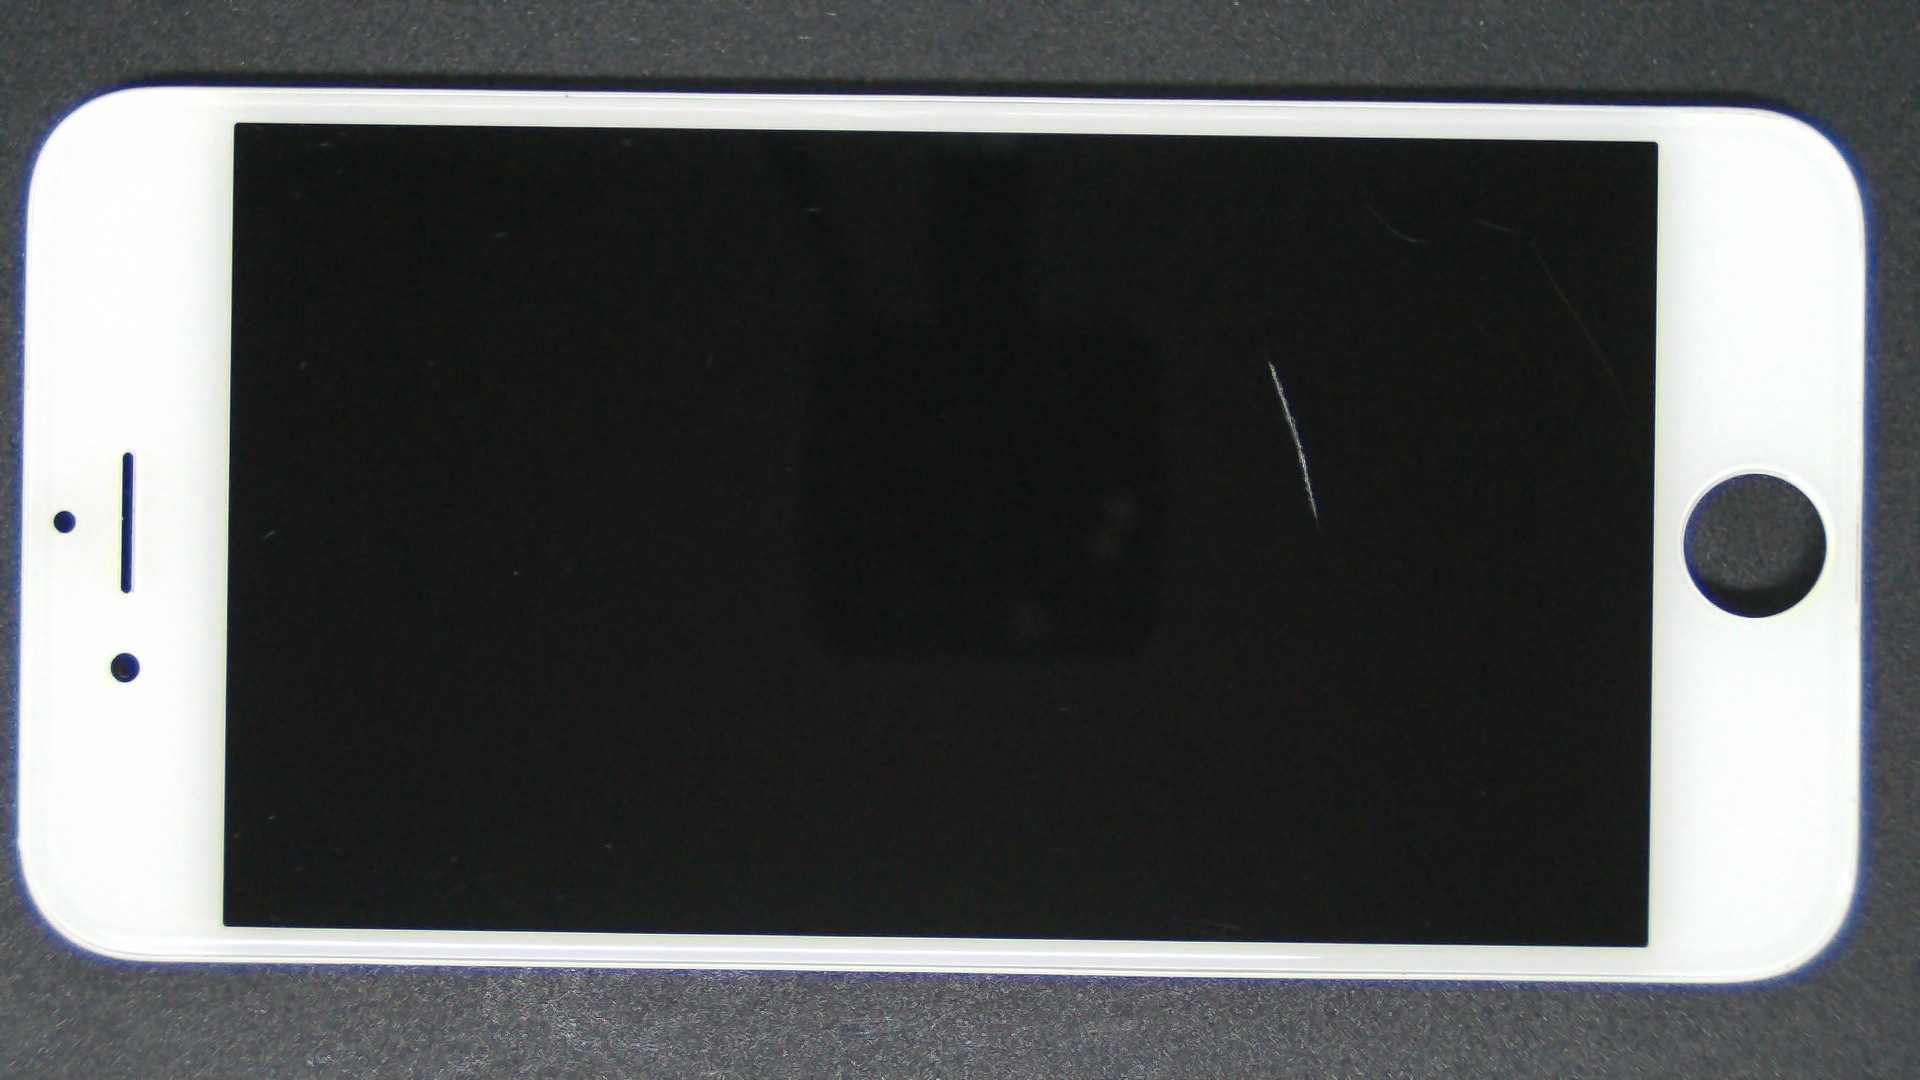oil: (634, 178, 1902, 543)
